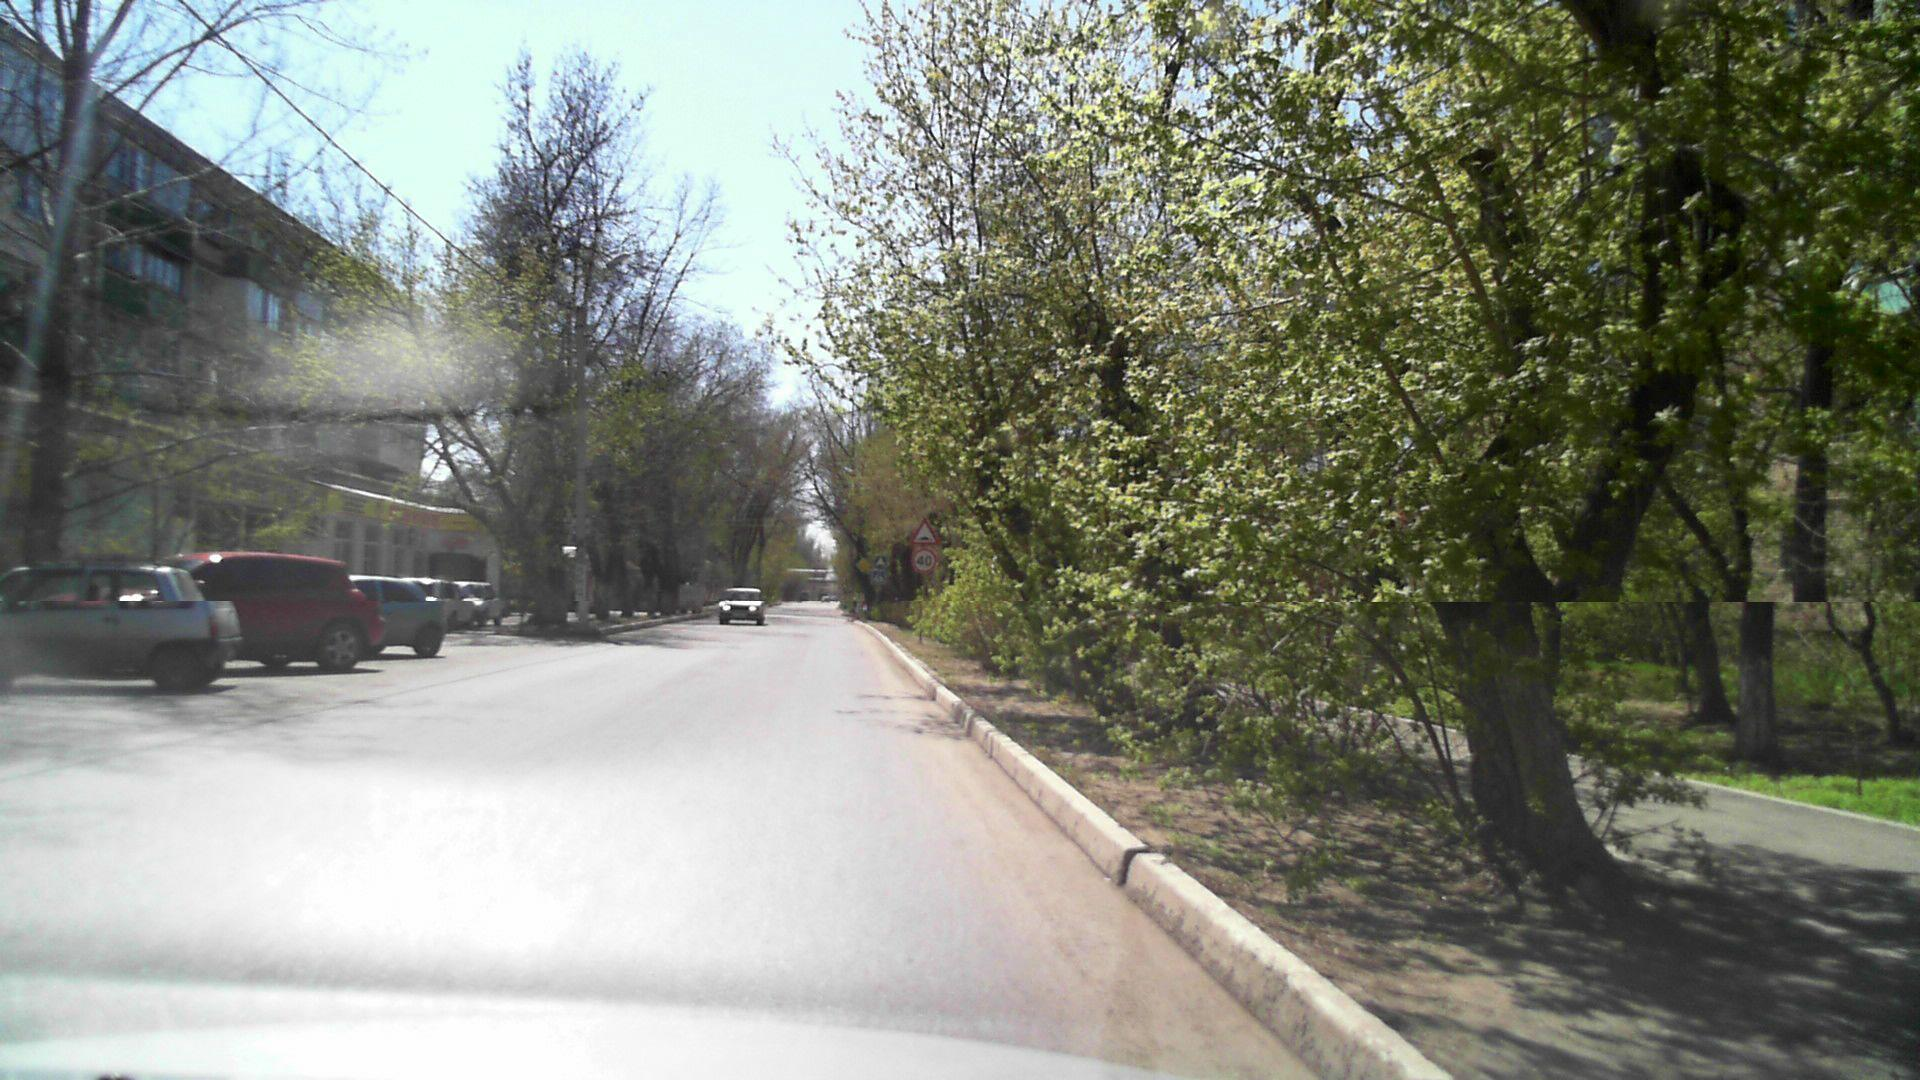1_17: (911, 517, 940, 546)
2_1: (856, 558, 869, 572)
3_24: (911, 547, 939, 575)
5_19_1: (872, 571, 886, 584)
5_20: (874, 555, 889, 568)
